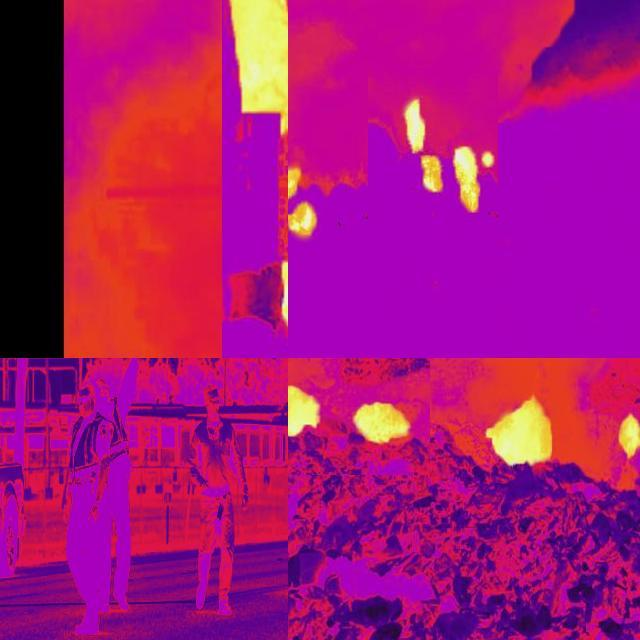fire: (404, 95, 496, 217), (223, 1, 288, 134), (487, 392, 559, 470), (350, 397, 413, 451), (289, 158, 327, 242), (289, 386, 324, 440), (616, 405, 640, 466)
